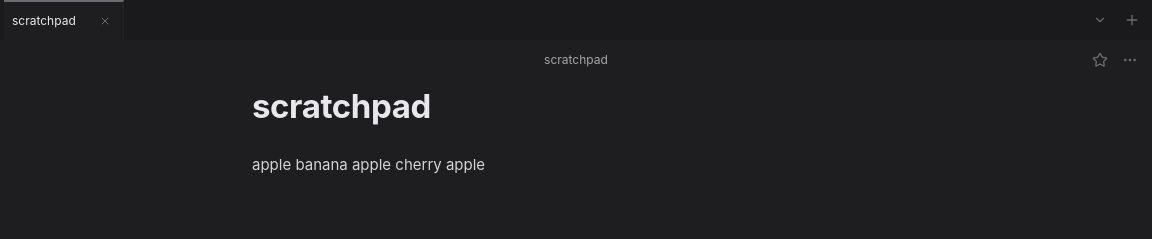
Test: LeafPane + real EditorPane/MarkdownEditor — Find highlight clears on dismiss › emptying the input still clears the highlight (no regression)
The image size is (1152, 239).
Press f in the field with class "cm-content", box 252,155 -> 485,174
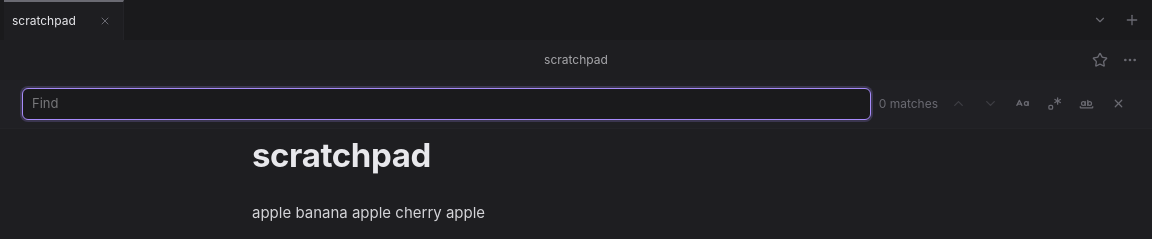
Type "apple" into the field with placeholder "Find".
click(446, 104); type("apple")  # box 22,88 -> 871,120
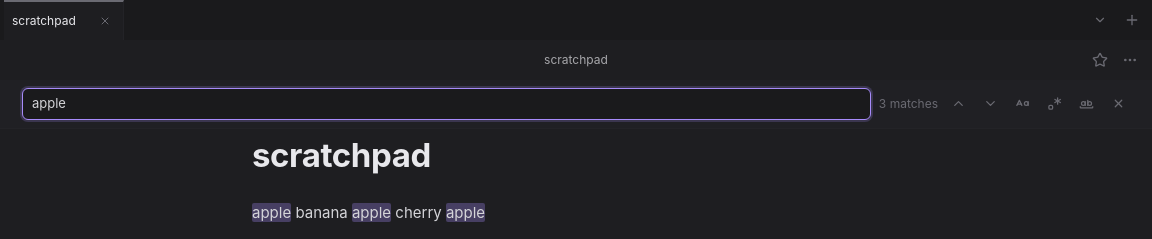
Result: the number of text boxes with class "cm-jasper-search-match" is 3 at 252,203 -> 291,222; 352,203 -> 391,222; 446,203 -> 485,222
Clear the field with placeholder "Find" at x=446, y=104, box 22,88 -> 871,120
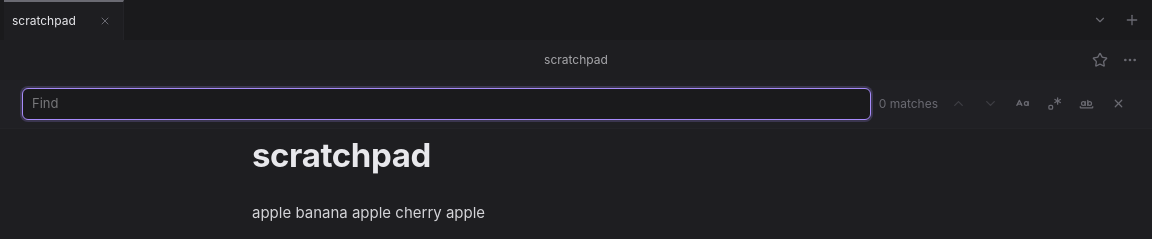
Result: no text boxes with class "cm-jasper-search-match" are shown
